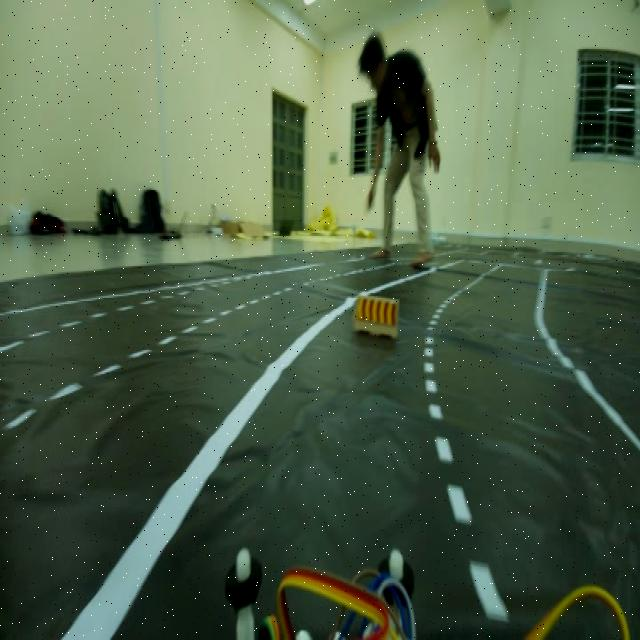roadblock: (351, 286, 408, 349)
